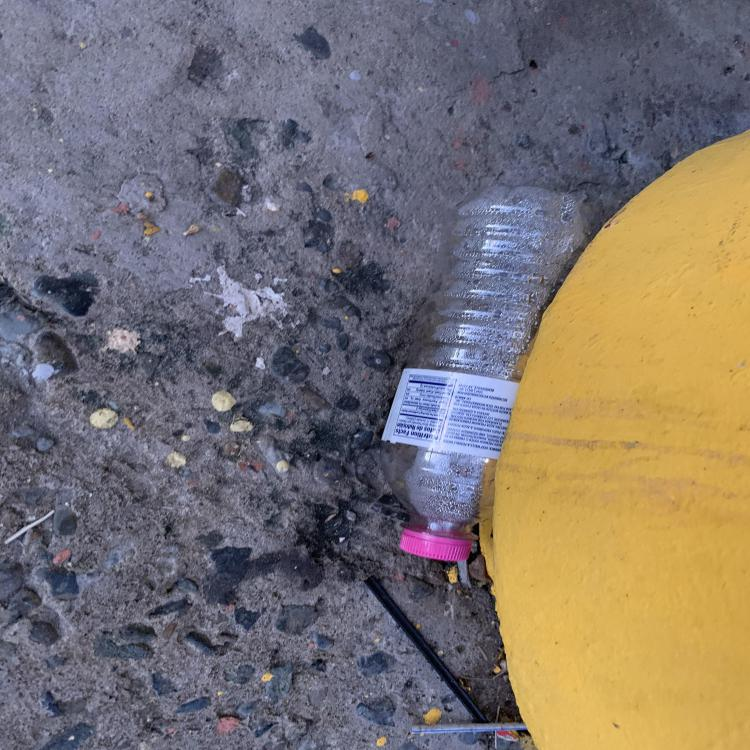Clear plastic bottle: (380, 186, 584, 561)
Plastic bottle cap: (398, 533, 471, 562)
Plastic straw: (364, 576, 489, 722), (410, 722, 526, 735)
